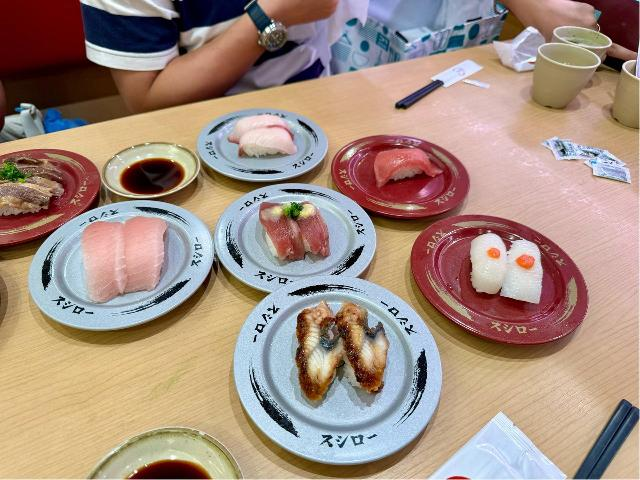janwhite: (241, 390, 455, 454), (247, 268, 388, 310), (212, 154, 323, 198), (394, 286, 435, 400), (77, 299, 198, 337), (328, 186, 376, 277), (168, 211, 218, 294), (213, 194, 260, 282), (42, 240, 87, 329), (224, 321, 271, 390), (291, 106, 327, 177), (200, 116, 231, 180), (76, 203, 155, 218)
